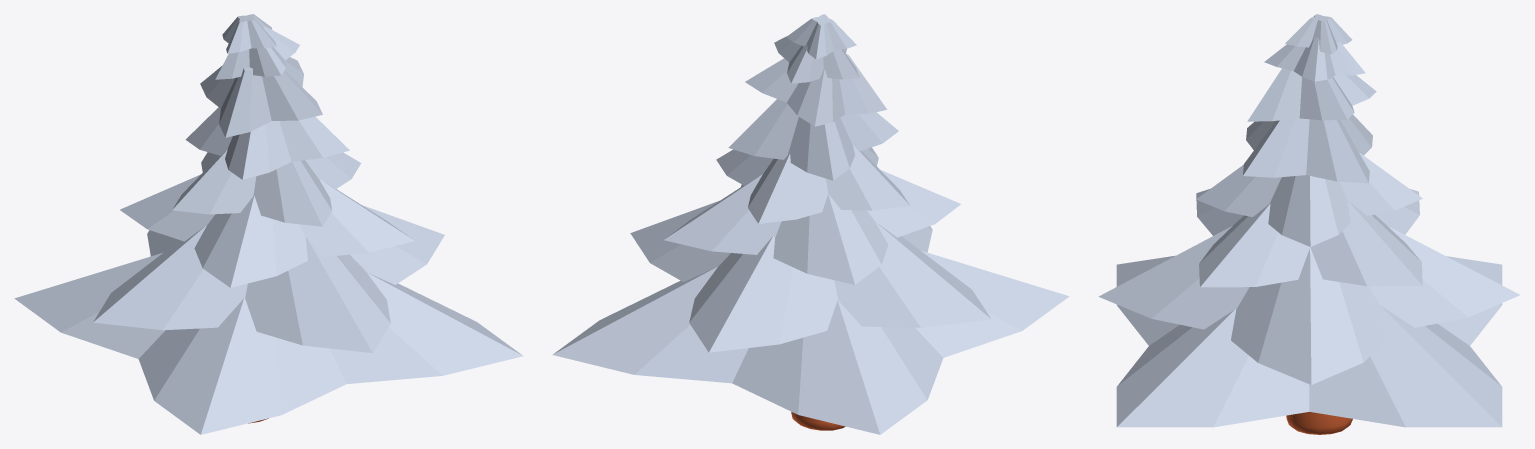
The model's file is arbol_Ice.fbx.
3 renders of one model, left to right at view 1: azimuth 30°, elevation 25°; view 2: azimuth 150°, elevation 25°; view 3: azimuth 270°, elevation 25°, orthographic. The views are drawn at different scales.
Parts seen in each view (by area): view 1: Arbol_ice; view 2: Arbol_ice; view 3: Arbol_ice.
Part boxes in pixels (left/top/right/bottom): Arbol_ice: left=14, top=14, right=523, bottom=434; Arbol_ice: left=552, top=14, right=1069, bottom=434; Arbol_ice: left=1098, top=14, right=1520, bottom=434.
Size of the model in its own units: 445 by 475 by 445.
